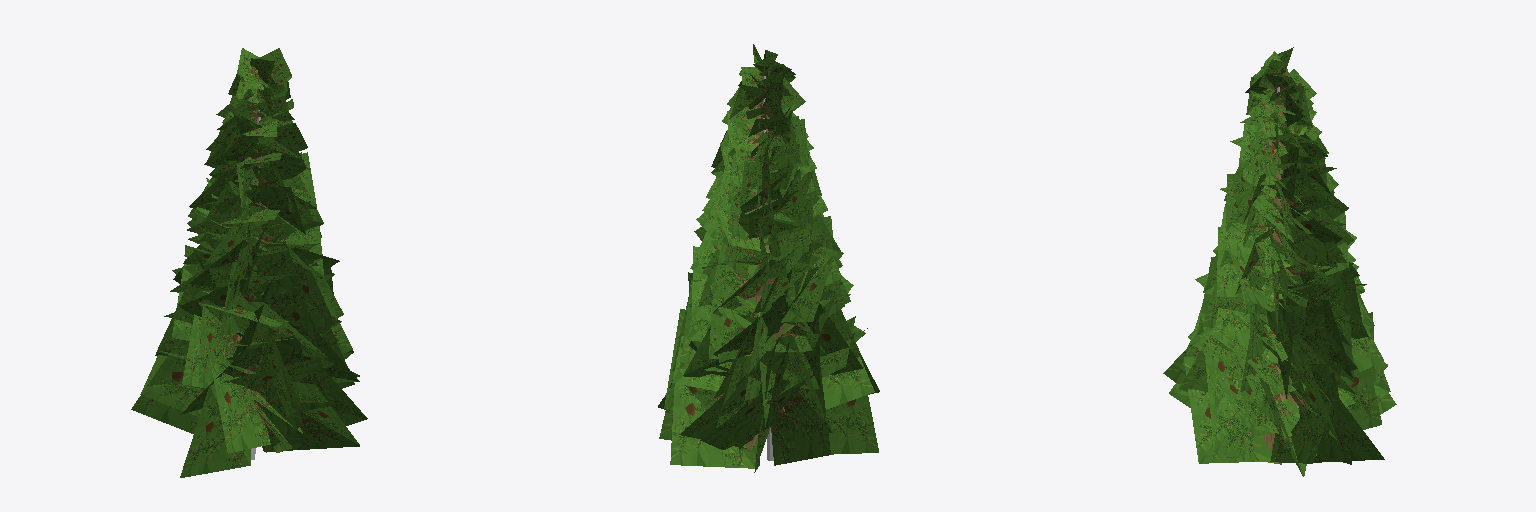
The picture shows the model from 3 angles: view 1: azimuth 30°, elevation 25°; view 2: azimuth 150°, elevation 25°; view 3: azimuth 270°, elevation 25°; orthographic projection.
Parts seen in each view (by area): view 1: Tree; view 2: Tree; view 3: Tree.
Boxes of the visible parts, x1=… form: Tree: x1=131, y1=48, x2=367, y2=477; Tree: x1=658, y1=44, x2=879, y2=472; Tree: x1=1163, y1=47, x2=1396, y2=476.
Bounding box in the file's own units: 0.7846 × 1.64 × 0.8422.
Materials: 2 (1 with a texture image).